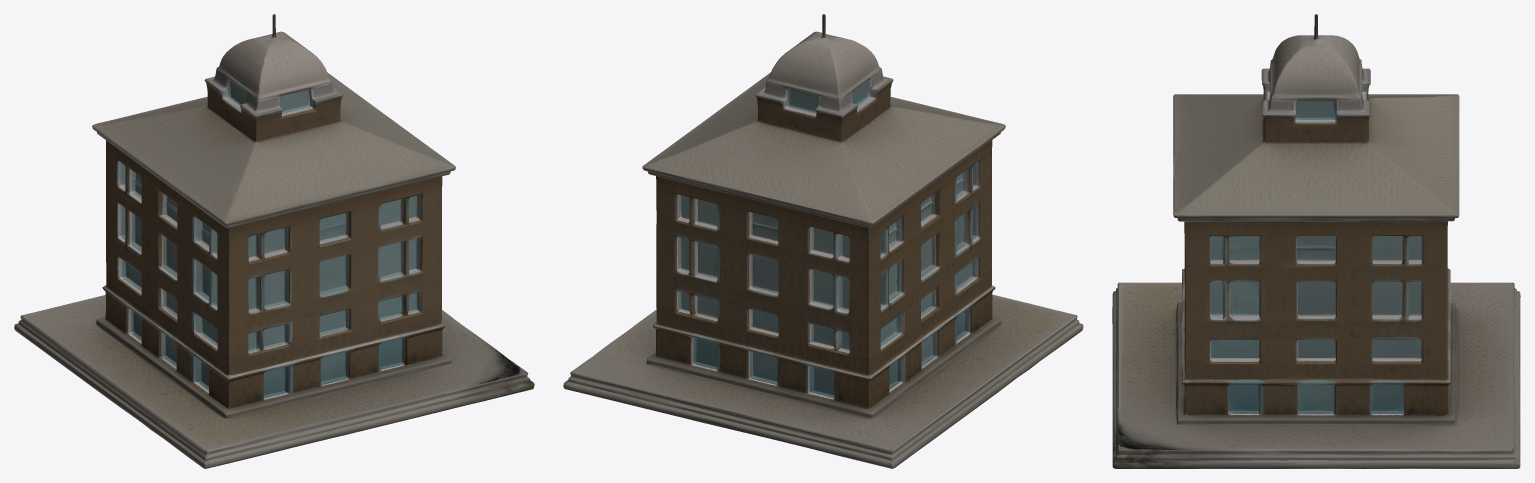
File: Building.gltf
3 views of the same model, side by side, from view 1: azimuth 30°, elevation 25°; view 2: azimuth 150°, elevation 25°; view 3: azimuth 270°, elevation 25° (orthographic). The views are drawn at different scales.
Parts seen in each view (by area): view 1: bank building; view 2: bank building; view 3: bank building.
Part boxes in pixels (<box>): bank building: <box>14,14,534,468</box>; bank building: <box>563,14,1083,468</box>; bank building: <box>1112,14,1520,468</box>.
Size of the model in its own units: 4 by 4 by 4.
Materials: 1 (1 with a texture image).
